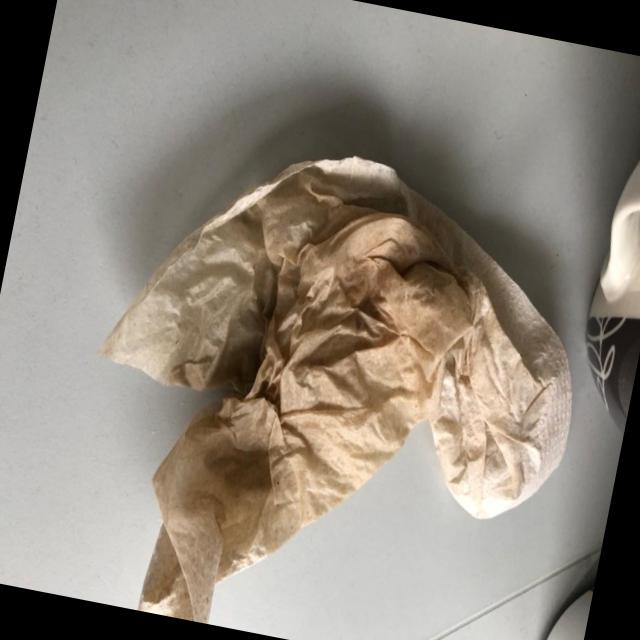organic waste: (49, 108, 614, 640)
